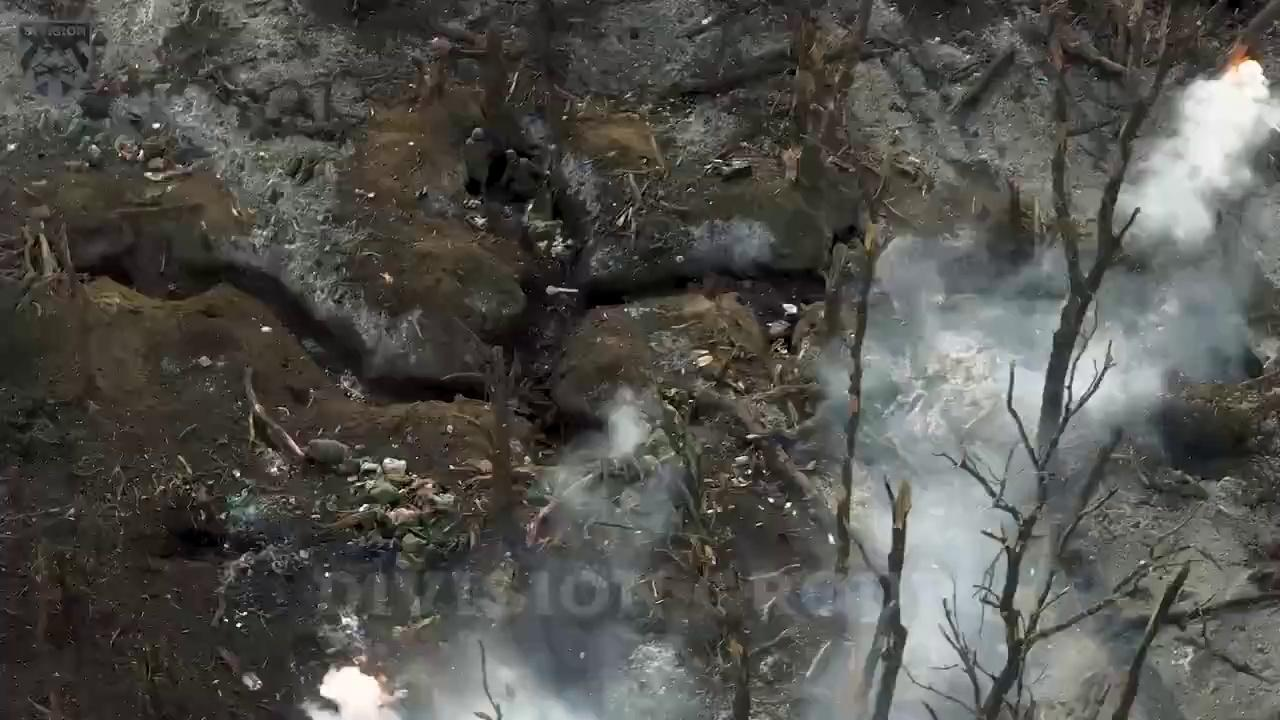trench: (37, 102, 882, 486)
